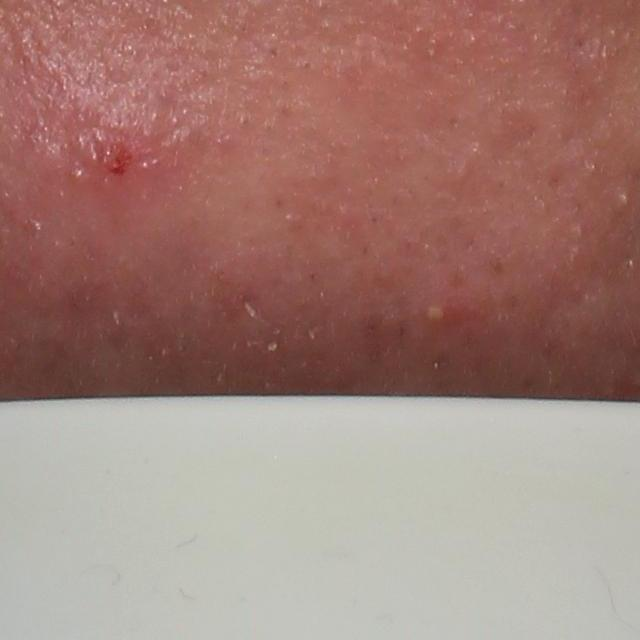comedo: (618, 191, 633, 207)
pustule: (419, 295, 458, 330)
